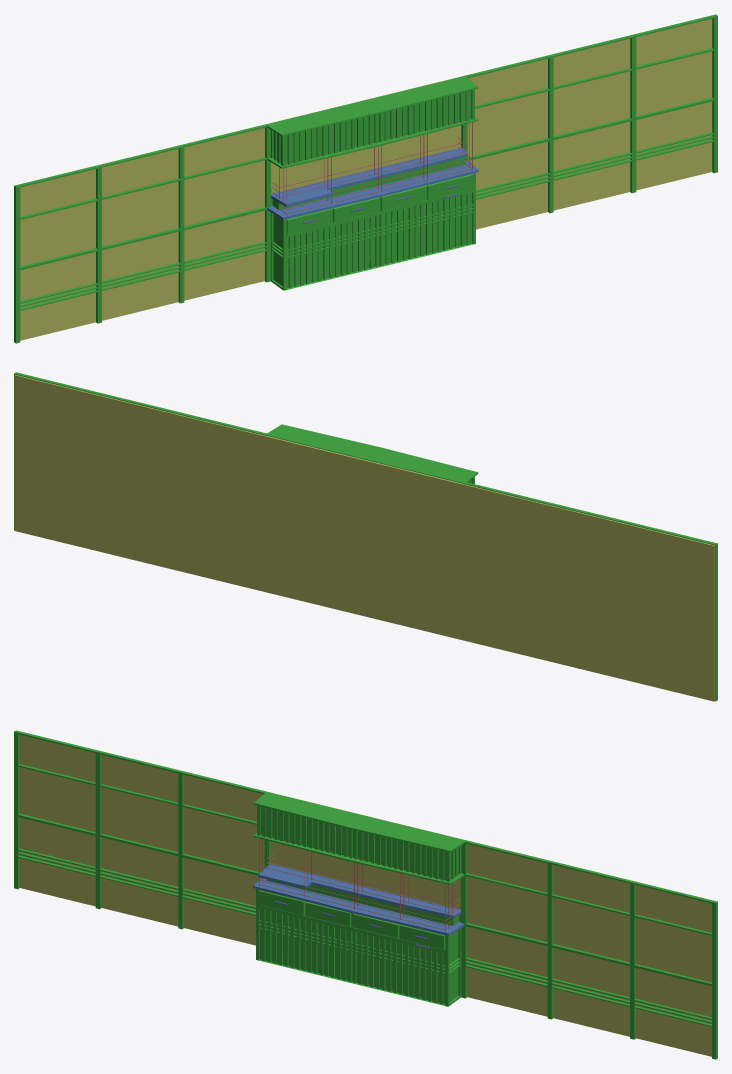
Rendered from barwalluvs.fbx.
3 views of the same model, one above another, from view 1: azimuth 30°, elevation 25°; view 2: azimuth 150°, elevation 25°; view 3: azimuth 330°, elevation 25° (orthographic).
Visible parts, largest first — view 1: mirroredwall, barwall, barcounter, pasted__metal_rods; view 2: mirroredwall, barwall; view 3: mirroredwall, barwall, barcounter, pasted__metal_rods.
Boxes of the visible parts, box(x1,y1,x2,y2) form: mirroredwall: box(20, 19, 712, 340); barwall: box(14, 14, 717, 343); barcounter: box(267, 147, 478, 219); pasted__metal_rods: box(273, 122, 472, 214); mirroredwall: box(14, 374, 715, 701); barwall: box(14, 372, 717, 701); mirroredwall: box(19, 735, 711, 1056); barwall: box(14, 730, 717, 1059); barcounter: box(253, 863, 466, 935); pasted__metal_rods: box(259, 838, 459, 931).
Bounding box in the file's own units: 1243 × 265 × 54.22.
